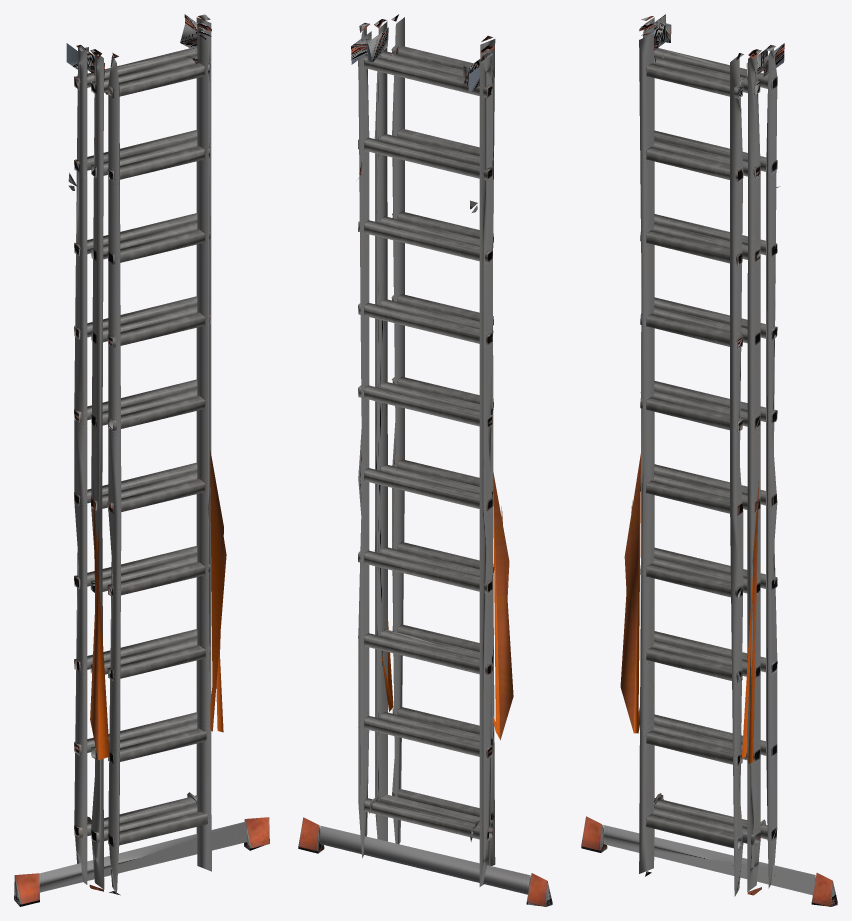
The model's file is ladder_sectioned_01.glb.
3 renders of one model, left to right at view 1: azimuth 30°, elevation 25°; view 2: azimuth 150°, elevation 25°; view 3: azimuth 330°, elevation 25°, orthographic.
Visible parts, largest first — view 1: ladder_section_03, ladder_section_01, ladder_section_02, ladder_ribbon; view 2: ladder_section_01, ladder_section_02, ladder_section_03, ladder_ribbon; view 3: ladder_section_03, ladder_section_01, ladder_section_02, ladder_ribbon.
Boxes of the visible parts, x1,y1,x2,y2 form: ladder_section_03: [105, 30, 211, 895]; ladder_section_01: [14, 14, 269, 906]; ladder_section_02: [84, 23, 211, 891]; ladder_ribbon: [90, 450, 226, 760]; ladder_section_01: [298, 23, 552, 906]; ladder_section_02: [367, 19, 494, 841]; ladder_section_03: [387, 14, 495, 865]; ladder_ribbon: [381, 470, 513, 740]; ladder_section_03: [639, 32, 747, 896]; ladder_section_01: [581, 14, 837, 906]; ladder_section_02: [639, 23, 767, 895]; ladder_ribbon: [620, 454, 758, 763].
Bounding box in the file's own units: 0.6615 × 2.13 × 0.177.
1 material, 1 textured.
